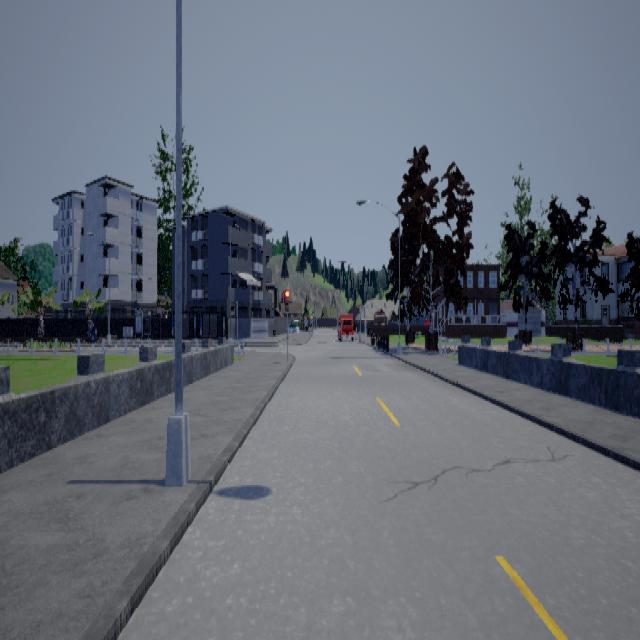red_light: (285, 288, 291, 315)
vehicle: (337, 310, 355, 340)
